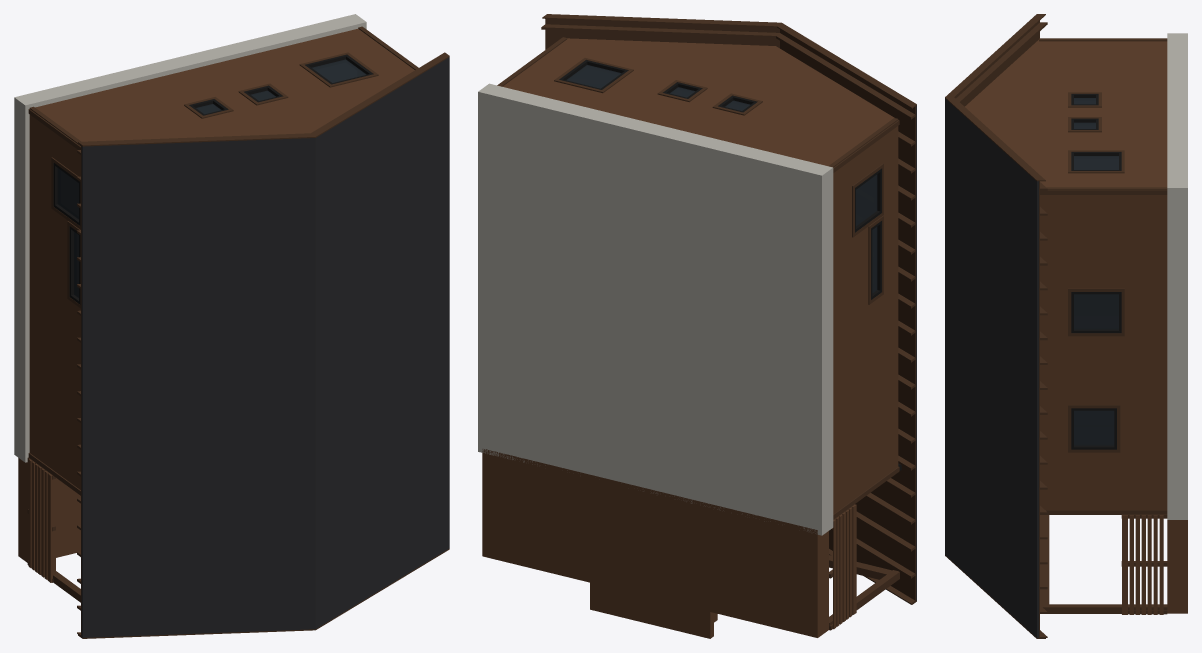
Rendered from cabin-2br-terrace_3d.obj.
3 renders of one model, left to right at view 1: azimuth 30°, elevation 25°; view 2: azimuth 150°, elevation 25°; view 3: azimuth 270°, elevation 25°, orthographic. The views are drawn at different scales.
Parts seen in each view (by area): view 1: roof_tiles, wood, slab, trim, glass, frame; view 2: slab, wood, sheathing, trim, rafters, glass, frame; view 3: wood, roof_tiles, slab, trim, glass, frame, rafters, sheathing.
Boxes of the visible parts, x1=… form: roof_tiles: x1=81, y1=57, x2=449, y2=637; wood: x1=18, y1=29, x2=414, y2=582; slab: x1=14, y1=14, x2=366, y2=462; trim: x1=27, y1=26, x2=449, y2=638; glass: x1=57, y1=59, x2=366, y2=297; frame: x1=53, y1=54, x2=373, y2=304; slab: x1=478, y1=83, x2=833, y2=535; wood: x1=482, y1=38, x2=898, y2=638; sheathing: x1=545, y1=19, x2=915, y2=601; trim: x1=497, y1=14, x2=916, y2=630; rafters: x1=541, y1=24, x2=915, y2=604; glass: x1=566, y1=65, x2=877, y2=293; frame: x1=559, y1=60, x2=901, y2=470; wood: x1=965, y1=40, x2=1187, y2=614; roof_tiles: x1=945, y1=98, x2=1038, y2=637; slab: x1=1167, y1=33, x2=1187, y2=519; trim: x1=945, y1=14, x2=1167, y2=638; glass: x1=1074, y1=98, x2=1118, y2=445; frame: x1=1071, y1=94, x2=1121, y2=449; rafters: x1=956, y1=22, x2=1047, y2=637; sheathing: x1=955, y1=21, x2=1039, y2=637.
Bounding box in the file's own units: 860 × 1122 × 531.
